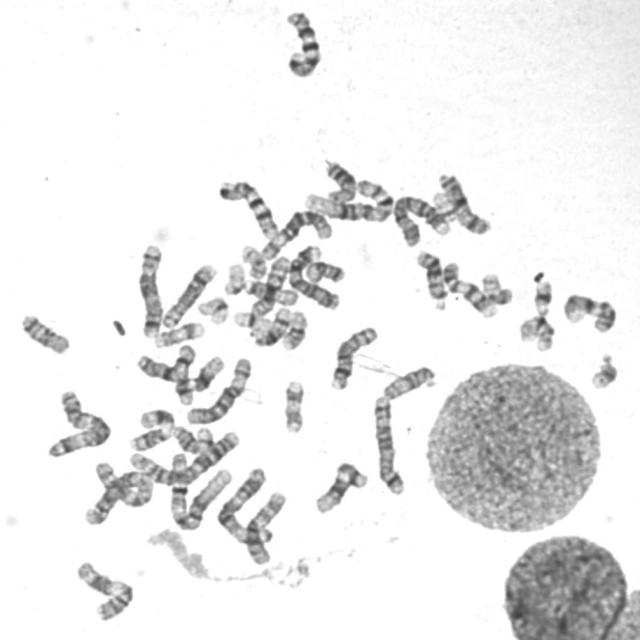A1: (164, 450, 232, 532), (300, 175, 395, 223)
A2: (124, 425, 243, 487), (79, 460, 156, 527)
A3: (42, 384, 113, 460), (216, 464, 272, 547)
B4: (389, 189, 455, 248), (288, 245, 342, 314)
B5: (368, 392, 408, 496), (133, 238, 166, 339)
C10: (240, 486, 289, 566), (250, 254, 292, 318)
C11: (72, 556, 135, 623), (125, 404, 177, 453)
C12: (310, 456, 371, 515), (173, 355, 225, 407)
C6: (183, 352, 255, 425), (256, 205, 334, 262)
C7: (214, 175, 282, 240), (282, 6, 324, 78)
C8: (157, 258, 219, 330), (326, 321, 380, 392)
C9: (439, 257, 501, 319), (562, 292, 618, 334)
D13: (411, 245, 450, 310), (319, 154, 358, 205)
D14: (248, 304, 293, 348), (171, 421, 215, 455)
D15: (378, 361, 438, 402), (241, 276, 300, 308)
E16: (514, 311, 557, 353), (277, 306, 310, 352)
E17: (150, 317, 206, 349), (278, 374, 306, 435)
E18: (16, 308, 72, 357), (301, 256, 347, 285)
F19: (194, 292, 231, 326), (229, 306, 271, 332)
F20: (476, 267, 516, 307), (237, 240, 269, 280)
G21: (586, 348, 620, 391), (530, 276, 554, 316)
G22: (219, 258, 247, 297), (428, 186, 458, 220)
X: (432, 167, 493, 237), (134, 344, 197, 384)
